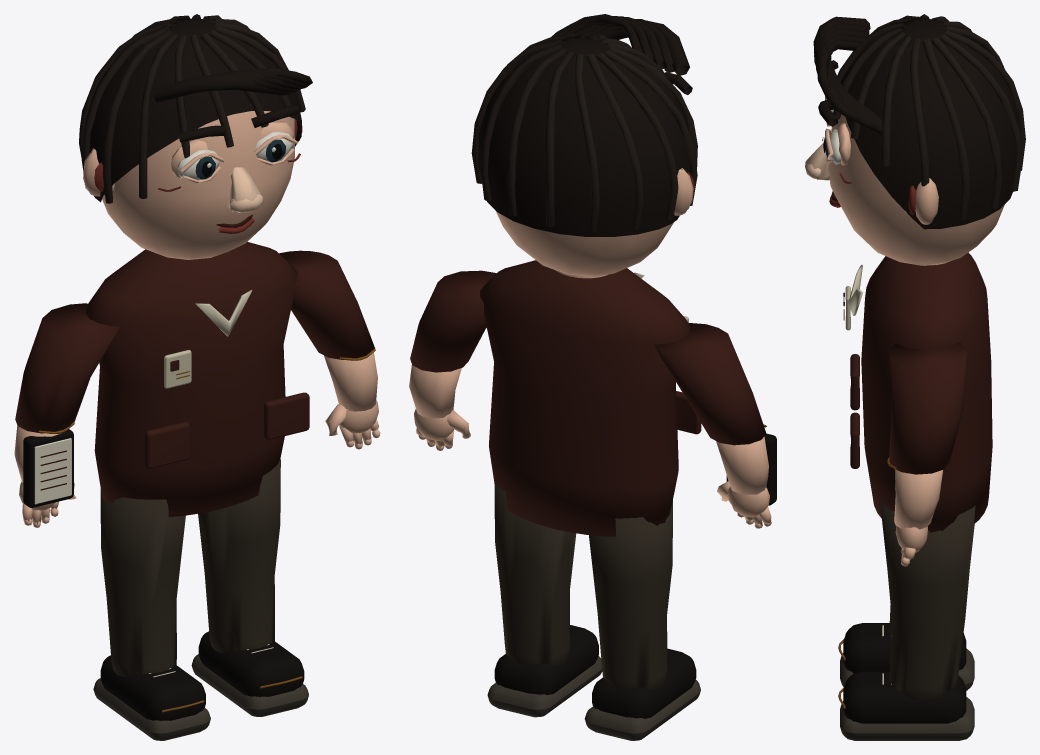
Rendered from doctor-12.glb.
The picture shows the model from 3 angles, left to right: view 1: azimuth 30°, elevation 25°; view 2: azimuth 150°, elevation 25°; view 3: azimuth 270°, elevation 25°; orthographic projection.
Visible parts, largest first — view 1: Body, Head, LegL, LegR, ArmL, ArmR; view 2: Body, Head, LegL, LegR, ArmL, ArmR; view 3: Head, Body, LegR, ArmR, LegL.
Part boxes in pixels (x1,y1,x2,y2): Body: (86, 214, 309, 516); Head: (79, 14, 312, 259); LegL: (93, 489, 210, 740); LegR: (191, 459, 308, 716); ArmL: (14, 303, 119, 527); ArmR: (279, 250, 380, 449); Body: (480, 260, 701, 536); Head: (471, 14, 697, 276); LegL: (584, 500, 700, 740); LegR: (487, 481, 602, 717); ArmL: (654, 323, 776, 528); ArmR: (409, 270, 496, 450); Head: (805, 14, 1025, 265); Body: (829, 191, 992, 532); LegR: (838, 502, 975, 740); ArmR: (887, 342, 966, 566); LegL: (838, 605, 974, 690).
Bounding box in the file's own units: 0.7014 × 1.26 × 0.3714.
